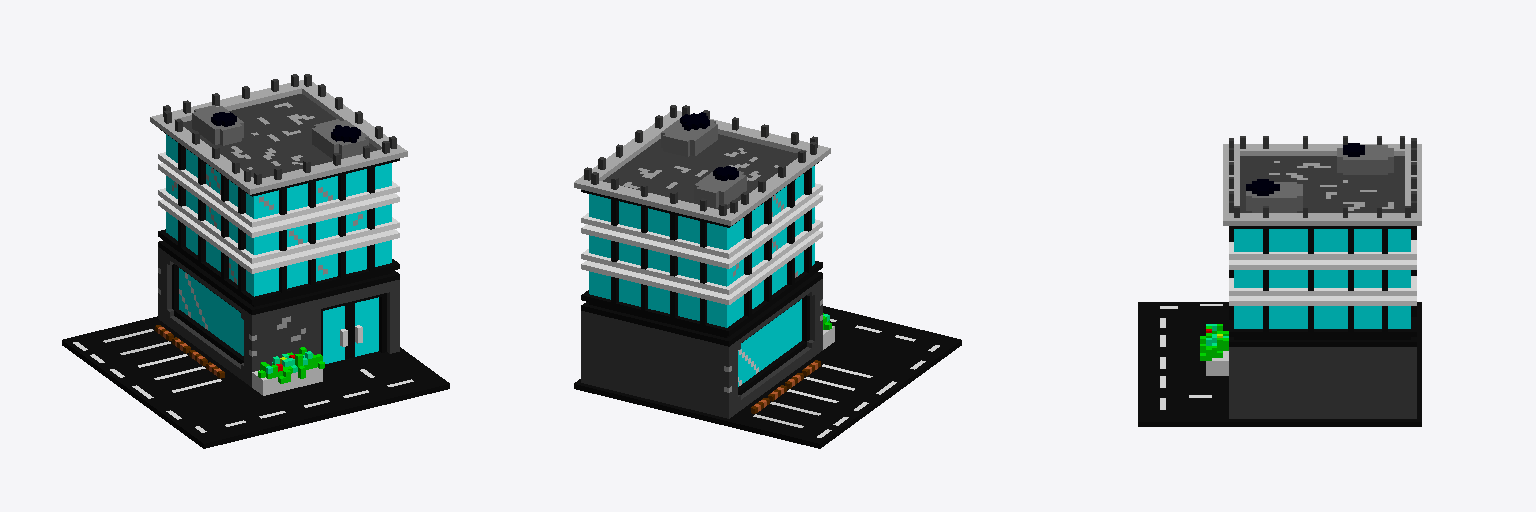
The picture shows the model from 3 angles: view 1: azimuth 30°, elevation 25°; view 2: azimuth 150°, elevation 25°; view 3: azimuth 270°, elevation 25°; orthographic projection.
Parts seen in each view (by area): view 1: object 1; view 2: object 1; view 3: object 1.
Boxes of the visible parts, x1,y1,x2,y2 form: object 1: [62, 74, 449, 448]; object 1: [574, 105, 961, 448]; object 1: [1138, 136, 1421, 426].
Bounding box in the file's own units: 5 × 4.3 × 5.
1 materials, 1 textured.